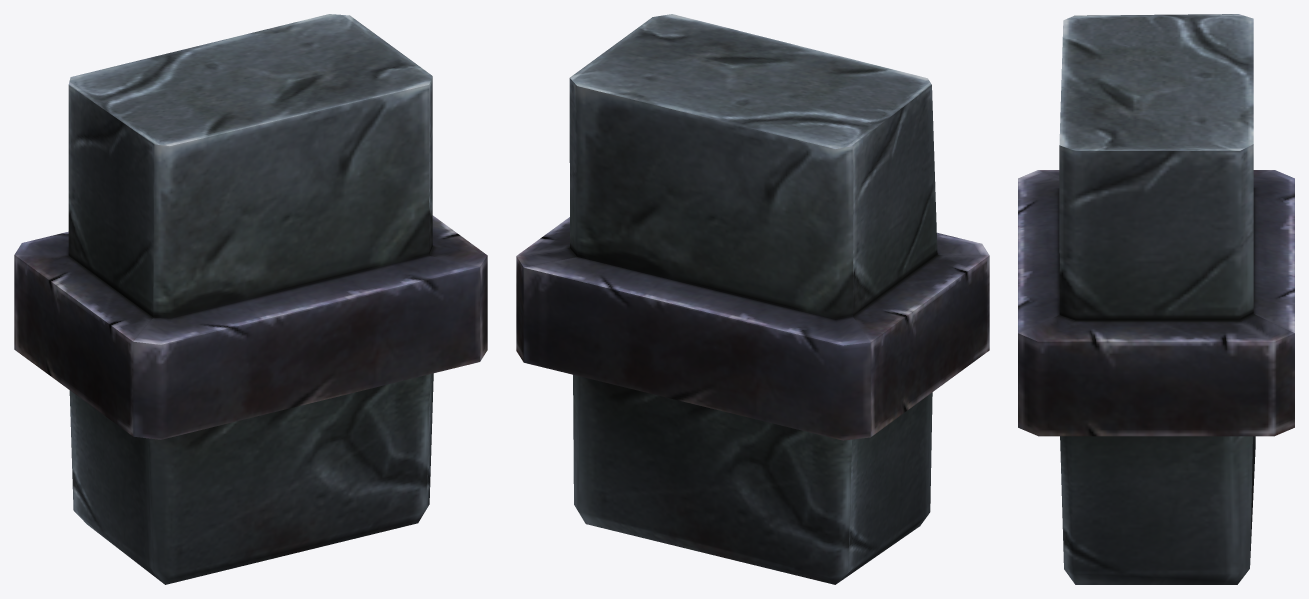
Rendered from B_shikuai004.fbx.
3 views of the same model, side by side, from view 1: azimuth 30°, elevation 25°; view 2: azimuth 150°, elevation 25°; view 3: azimuth 270°, elevation 25° (orthographic).
Parts seen in each view (by area): view 1: B_shikuai004; view 2: B_shikuai004; view 3: B_shikuai004.
Part boxes in pixels (x1=…): B_shikuai004: x1=14, y1=14, x2=487, y2=584; B_shikuai004: x1=516, y1=14, x2=989, y2=584; B_shikuai004: x1=1018, y1=14, x2=1294, y2=584.
Bounding box in the file's own units: 96.1 × 115 × 65.38.
